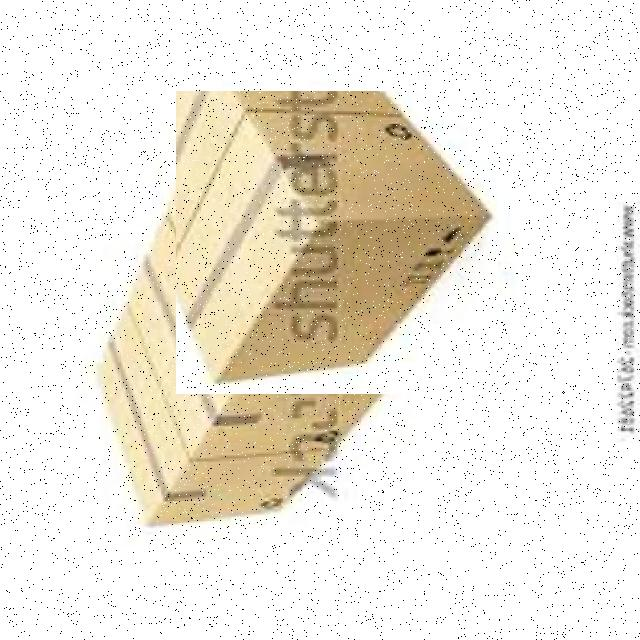normal: (176, 91, 498, 394)
